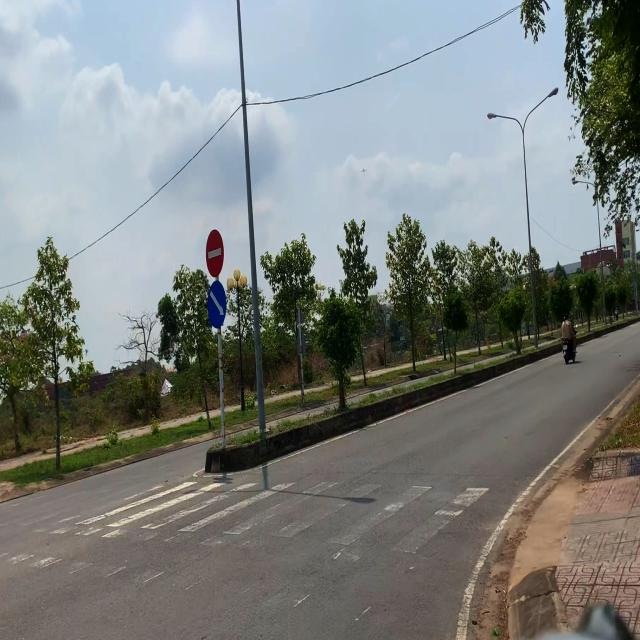Cam nguoc chieu: (205, 228, 224, 278)
Hieu lenh: (207, 280, 227, 330)
